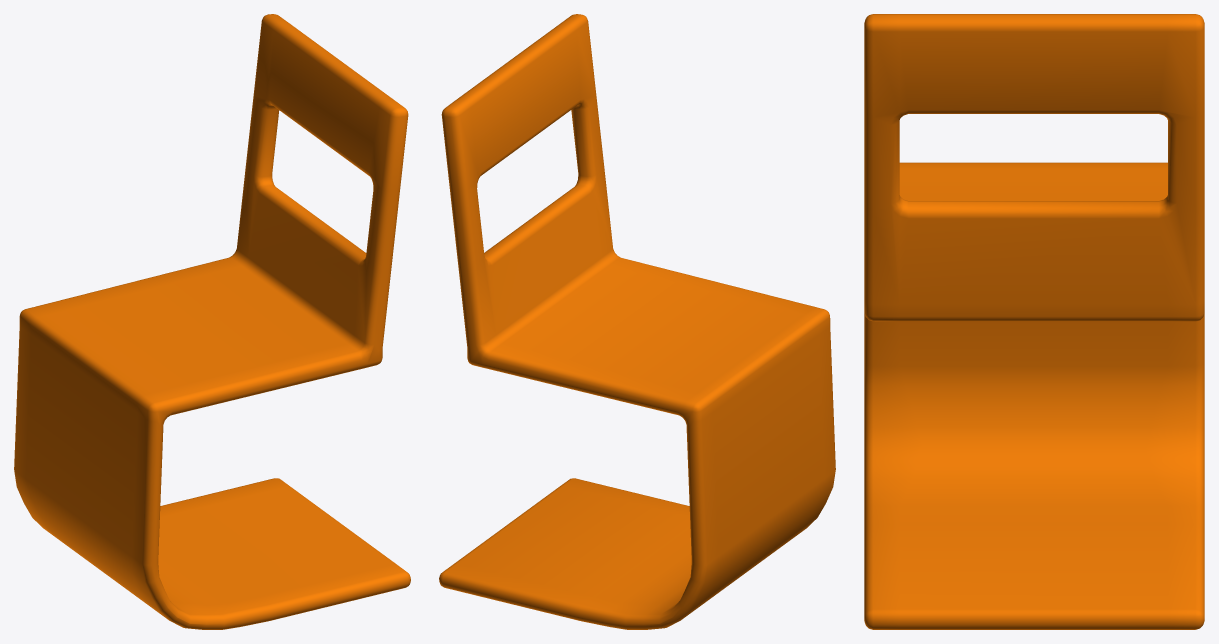
The model's file is Modern Chair03.fbx.
3 views of the same model, side by side, from view 1: azimuth 30°, elevation 25°; view 2: azimuth 150°, elevation 25°; view 3: azimuth 270°, elevation 25° (orthographic). The views are drawn at different scales.
Parts seen in each view (by area): view 1: Modern Chair03; view 2: Modern Chair03; view 3: Modern Chair03.
Boxes of the visible parts, box(x1,y1,x2,y2) form: Modern Chair03: box(14, 14, 410, 629); Modern Chair03: box(439, 14, 835, 629); Modern Chair03: box(864, 14, 1204, 629).
Size of the model in its own units: 0.3454 by 0.3 by 0.593.
